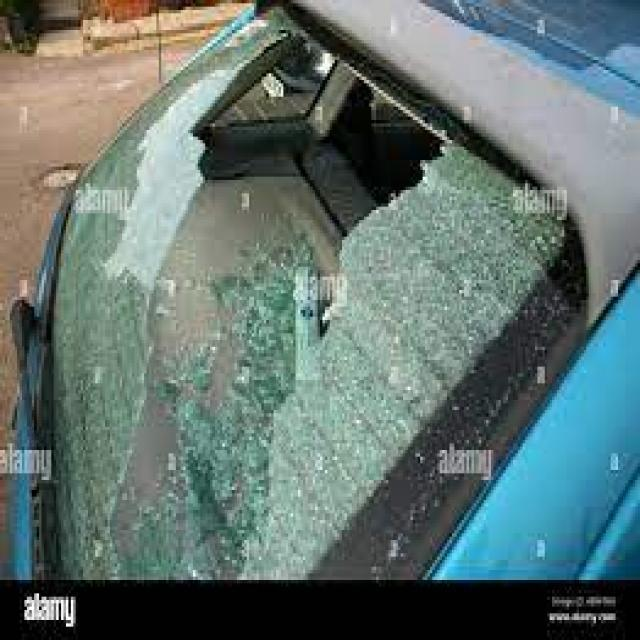damaged-rear-window: (62, 5, 580, 582)
